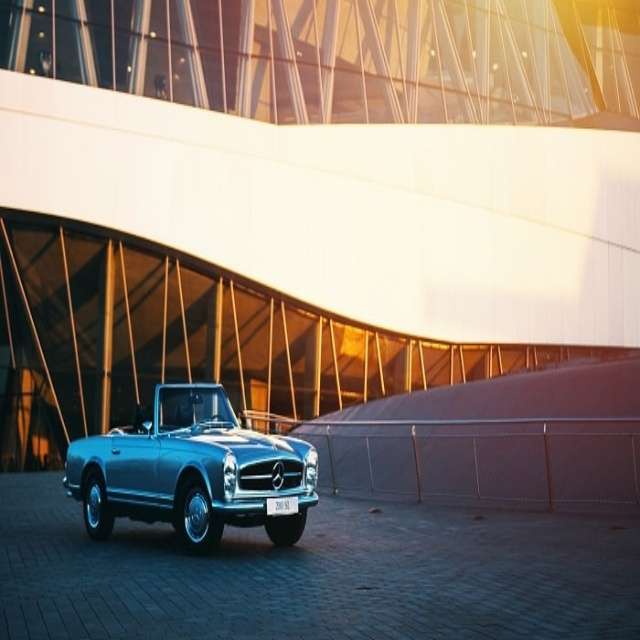Car: (62, 381, 320, 555)
